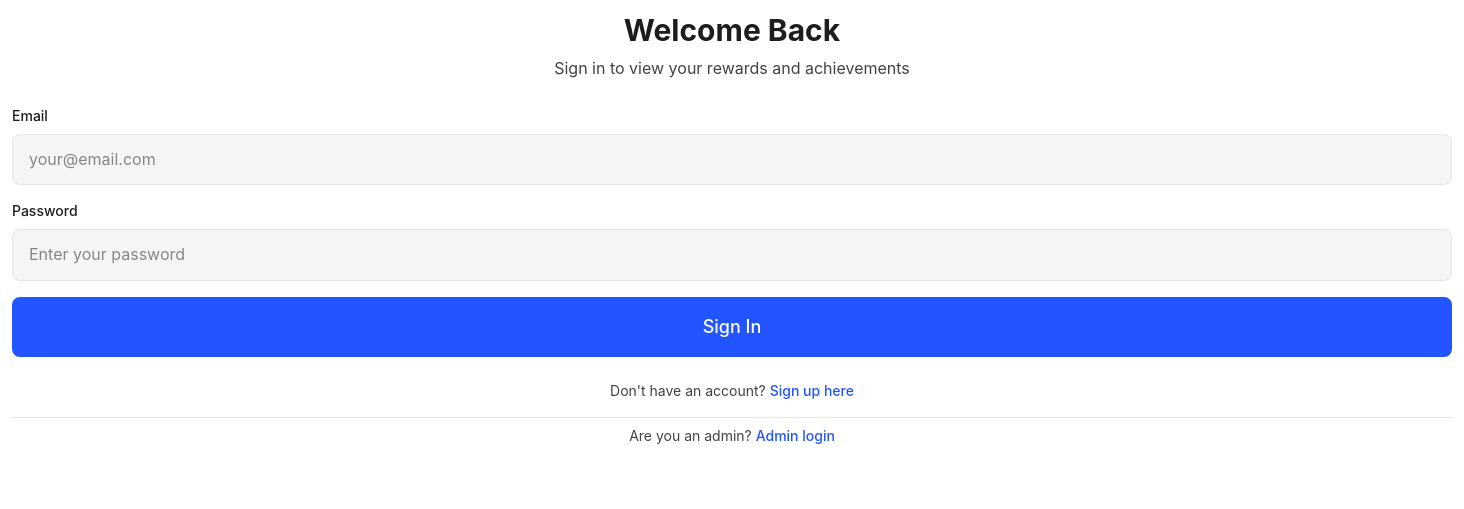
Test case: Login Form › Form Validation › should show password validation error when password is empty
This screenshot has width=1464, height=509.
Click the password field with placeholder "Enter your password": (732, 255) [12, 229, 1452, 281]
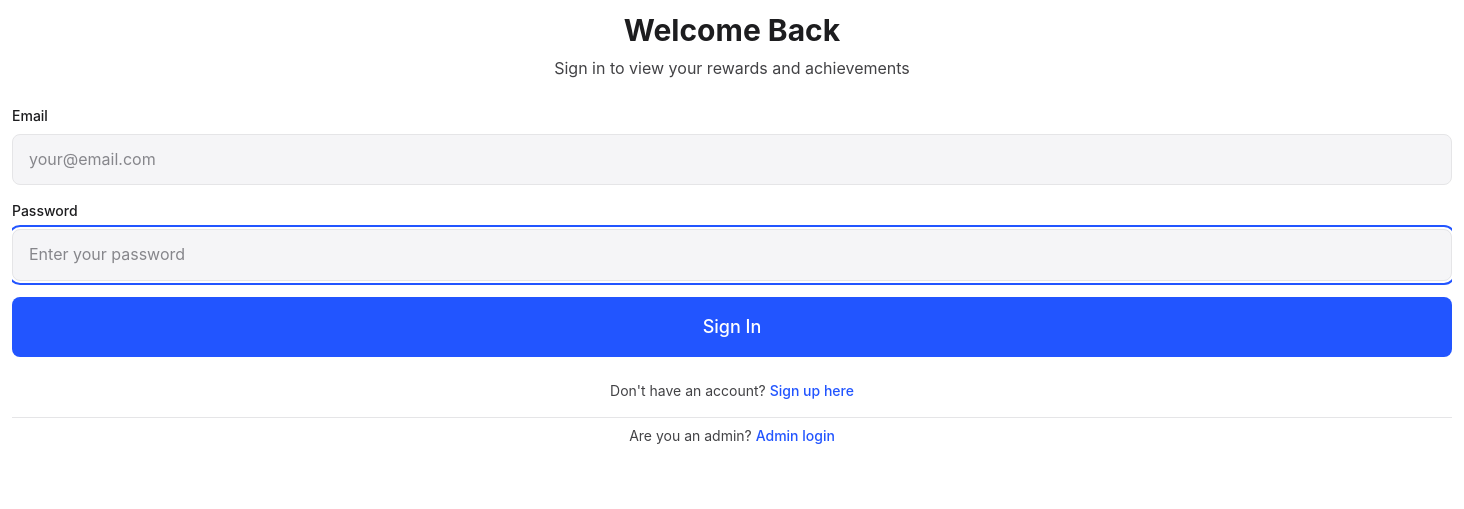
Click the button "Sign In": (732, 327) [12, 297, 1452, 357]
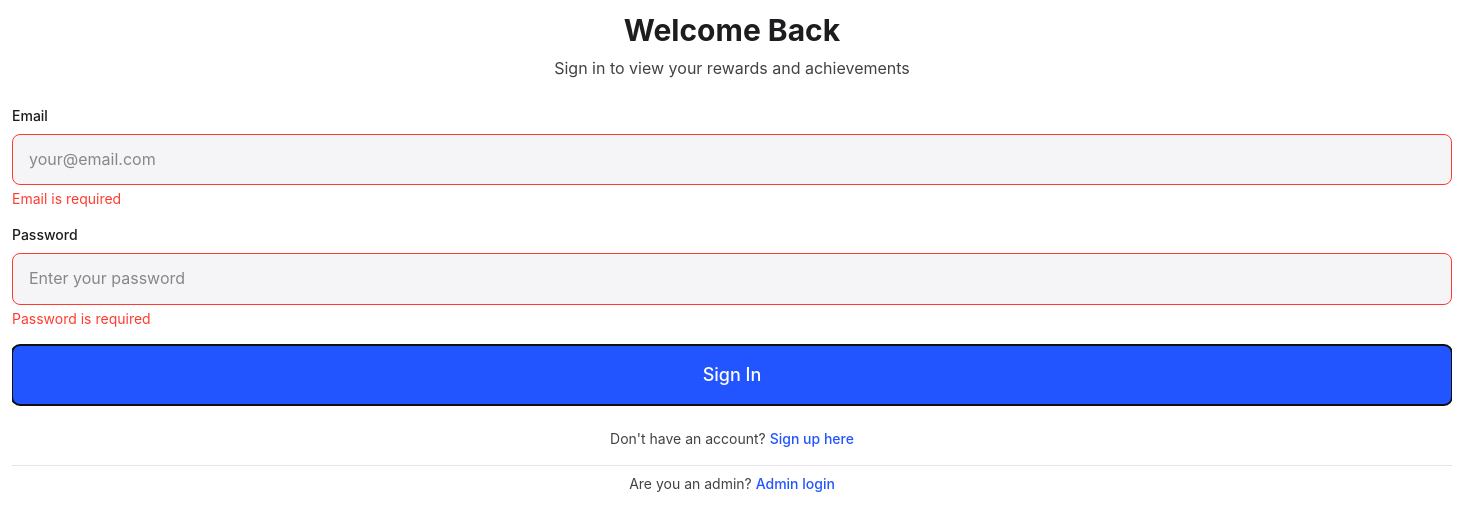
Expected: the text "Password is required" is shown, [12, 310, 151, 327]
